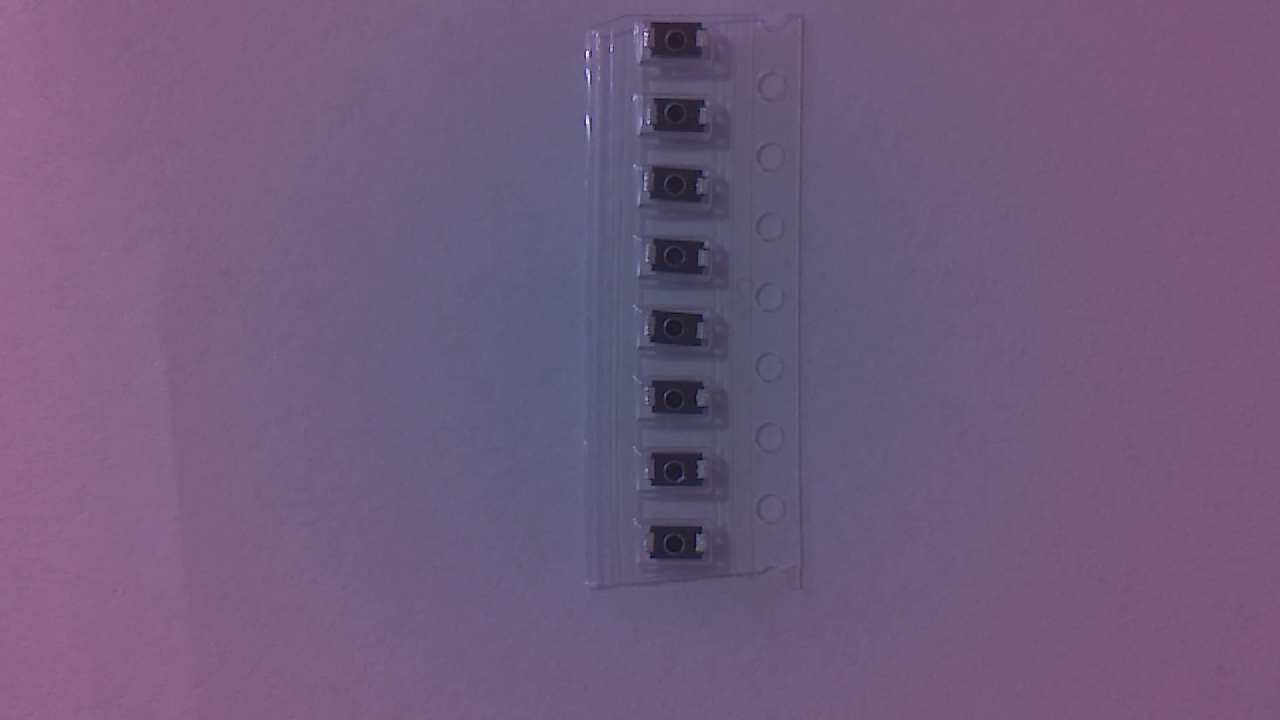Diode: (646, 93, 715, 145), (644, 21, 716, 70), (648, 167, 719, 214), (644, 311, 715, 357), (648, 524, 712, 571), (649, 381, 715, 425), (649, 452, 712, 496), (651, 243, 718, 284)
